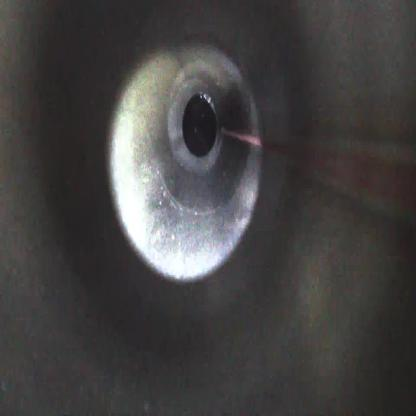NoCrack: (108, 44, 263, 282)
